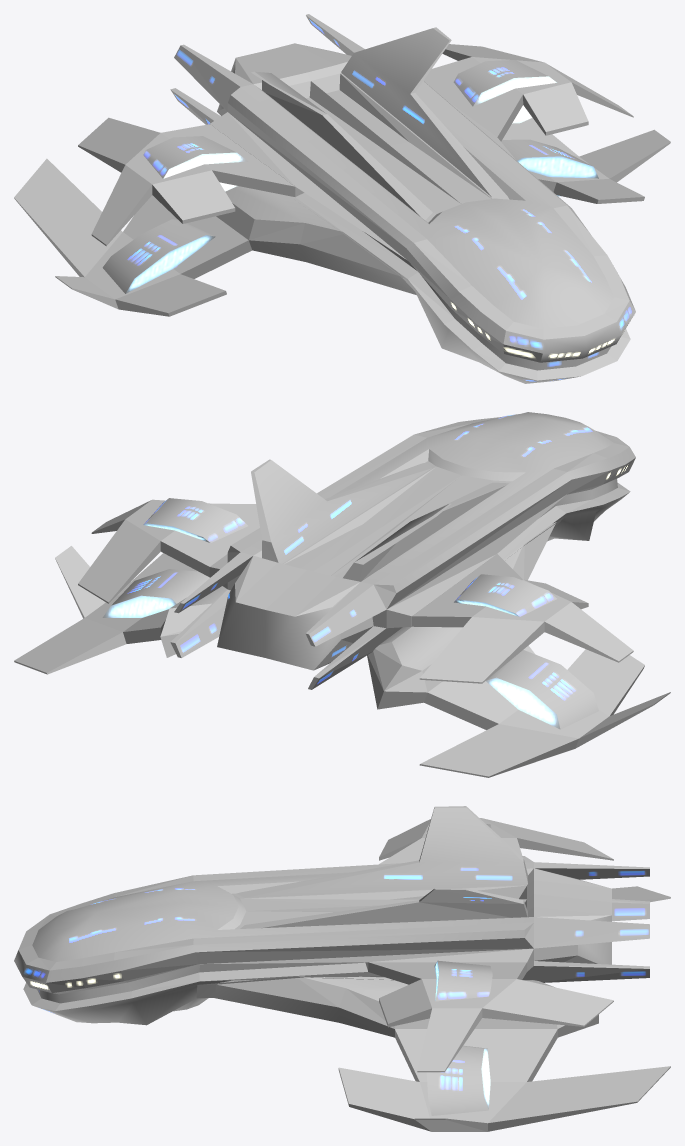
File: astraBattleship.FBX
3 views of the same model, one above another, from view 1: azimuth 30°, elevation 25°; view 2: azimuth 150°, elevation 25°; view 3: azimuth 270°, elevation 25° (orthographic). The views are drawn at different scales.
Parts seen in each view (by area): view 1: AstraBattleship01; view 2: AstraBattleship01; view 3: AstraBattleship01.
Part boxes in pixels (left/top/right/bottom): AstraBattleship01: left=14, top=14, right=670, bottom=383; AstraBattleship01: left=14, top=412, right=670, bottom=777; AstraBattleship01: left=14, top=806, right=670, bottom=1131.
Size of the model in its own units: 1.24 by 1.27 by 0.372.
